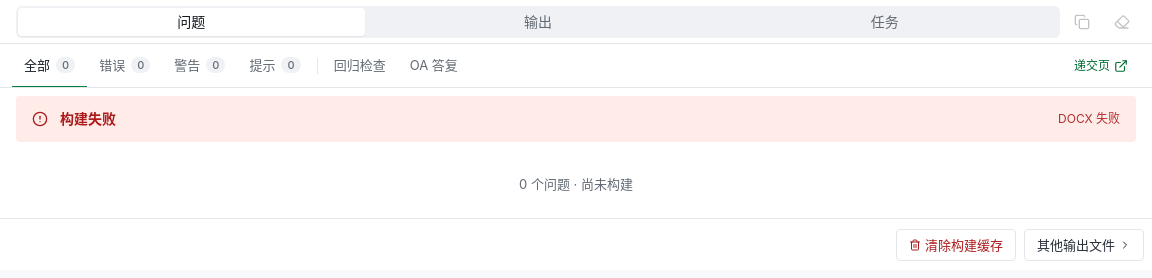
Test: MobileConsole「输出」错误块 › 标题是人话 message；AssertionError / soffice 只在默认折叠的「原始日志」里；abstract 错误有语义定位按钮
Click the radio button with test id "mobile-console-tab-output": (538, 22) left=365, top=8, right=711, bottom=36
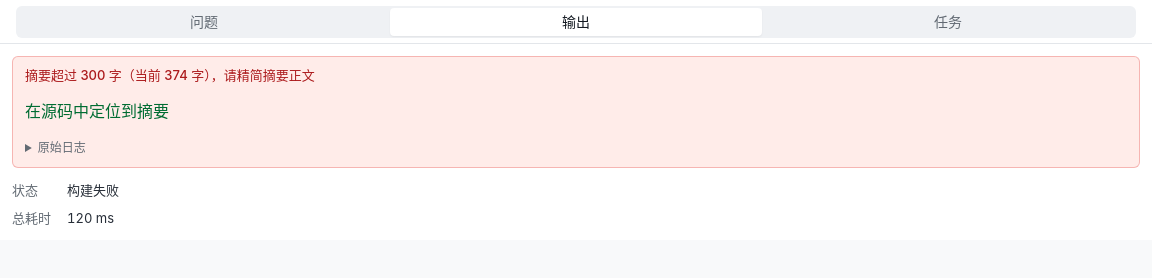
Now the message with test id "mobile-console-build-error" shows "摘要超过 300 字", box left=25, top=67, right=315, bottom=83
Now the message with test id "mobile-console-build-error" shows "在源码中定位到摘要", box left=12, top=56, right=1140, bottom=168
